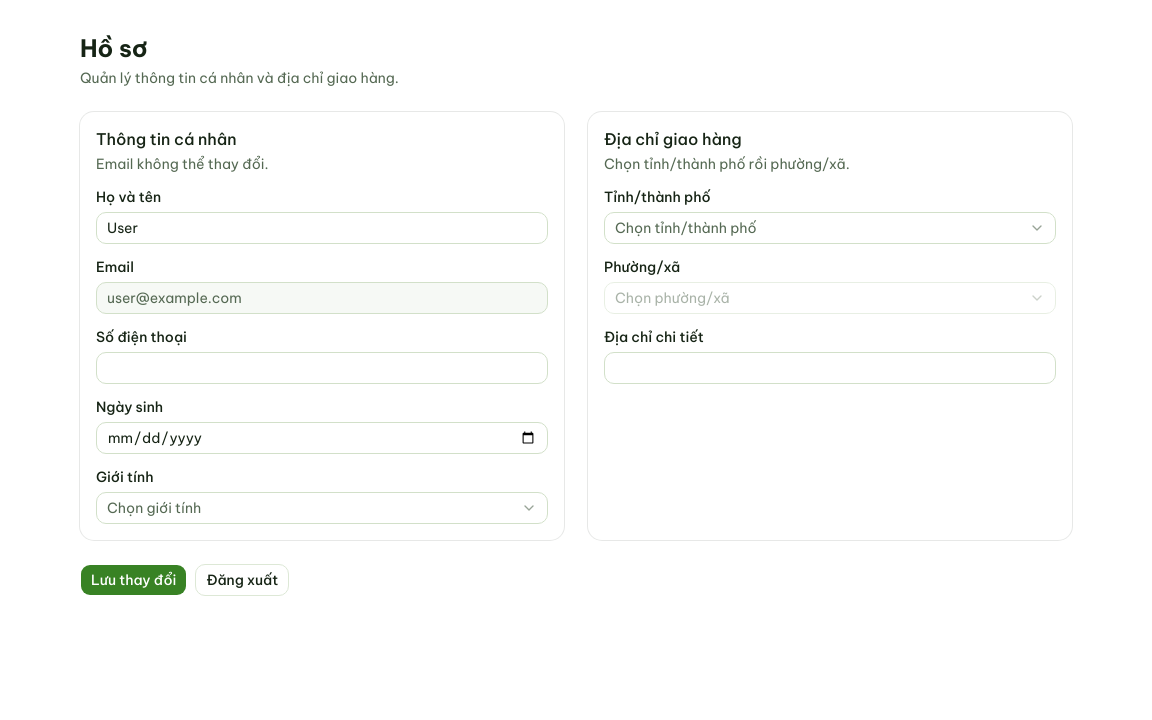
Test: reports a ward loading failure and retries
Click the button labelled "Chọn tỉnh/thành phố".
click(686, 228)  # box [604, 212, 1056, 244]
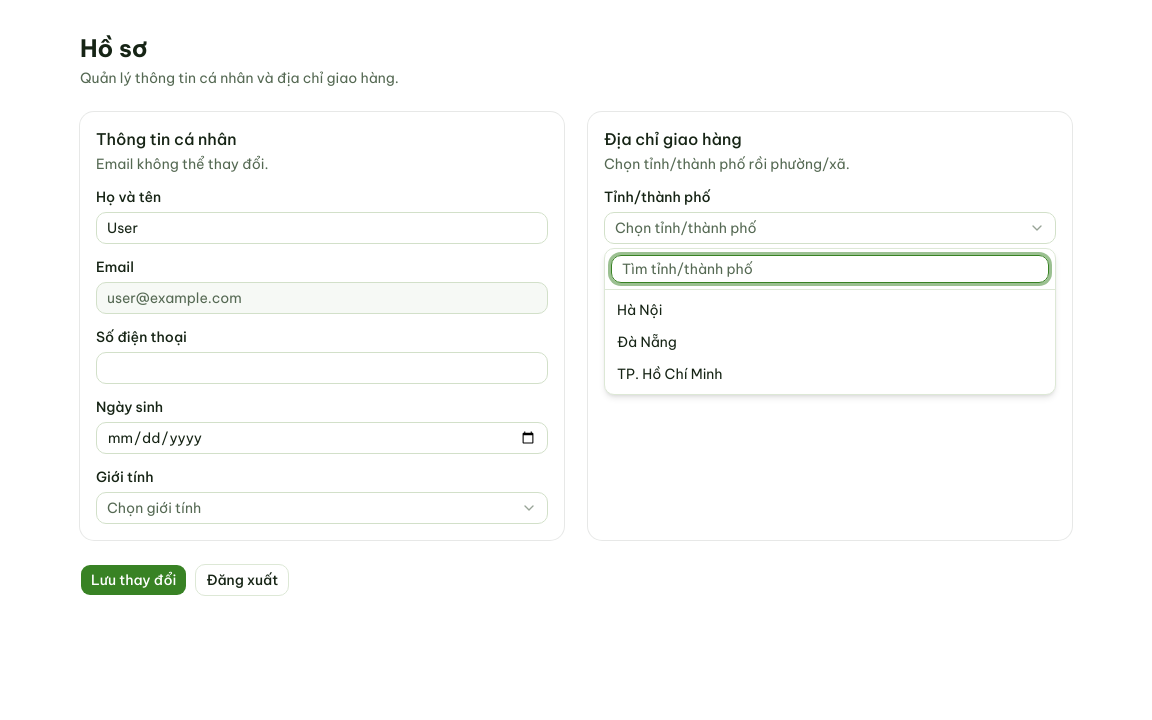
Click the option "TP. Hồ Chí Minh".
click(670, 374)  # box [609, 358, 1051, 390]
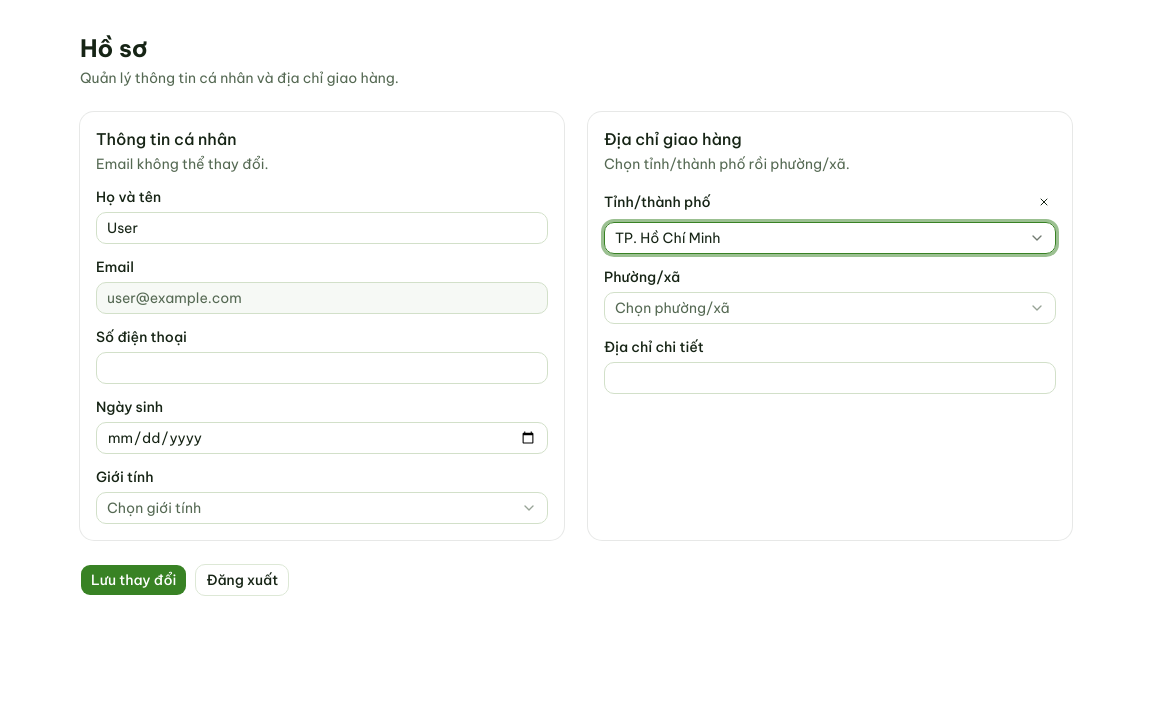
Click the button labelled "Chọn phường/xã".
click(672, 308)  # box [604, 292, 1056, 324]
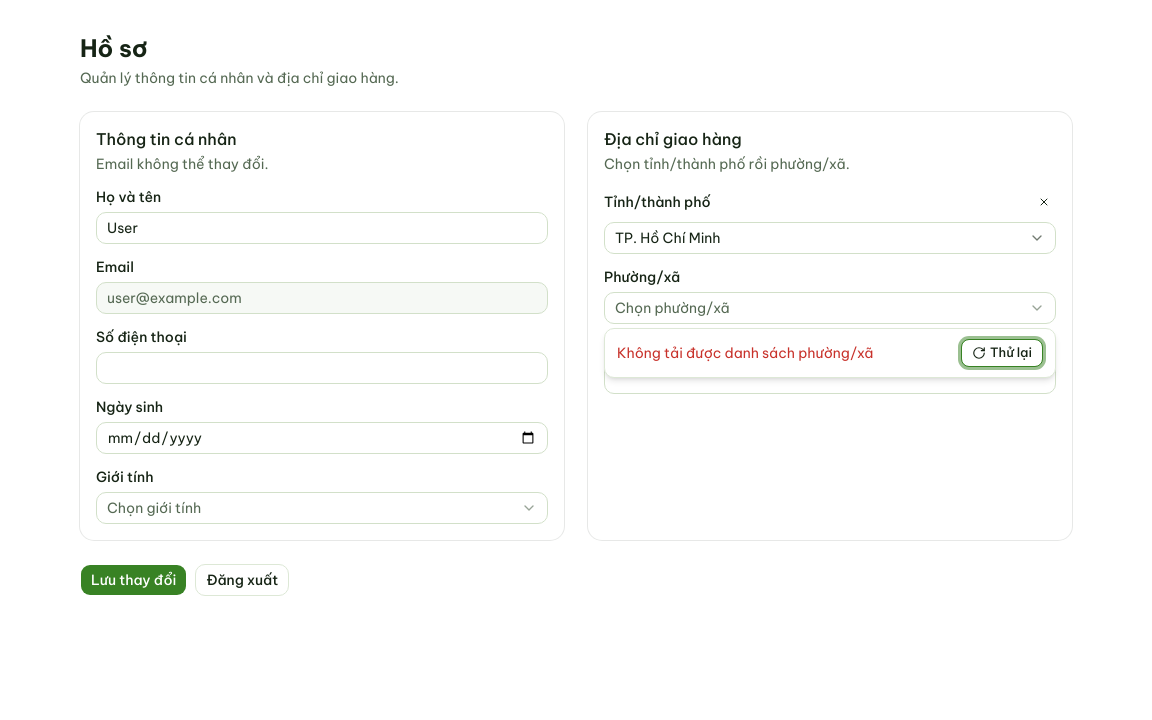
Check: the text "Không tải được danh sách phường/xã" is shown, box [617, 343, 874, 363]
Click the button "Thử lại".
click(1002, 353)  # box [961, 339, 1043, 367]
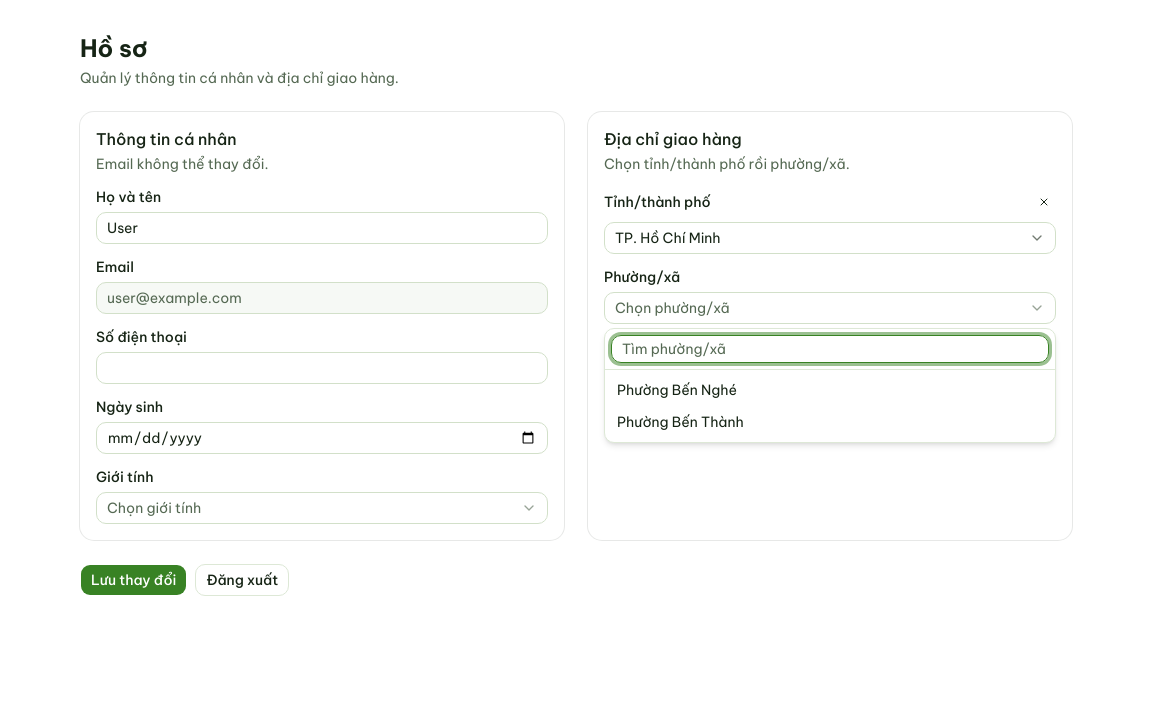
Check: the option "Phường Bến Nghé" is shown, box [609, 374, 1051, 406]
